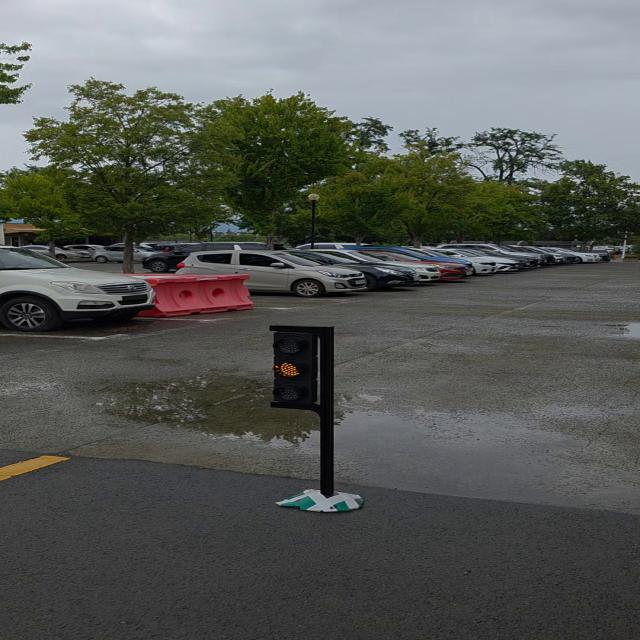yellow: (271, 326, 332, 407)
